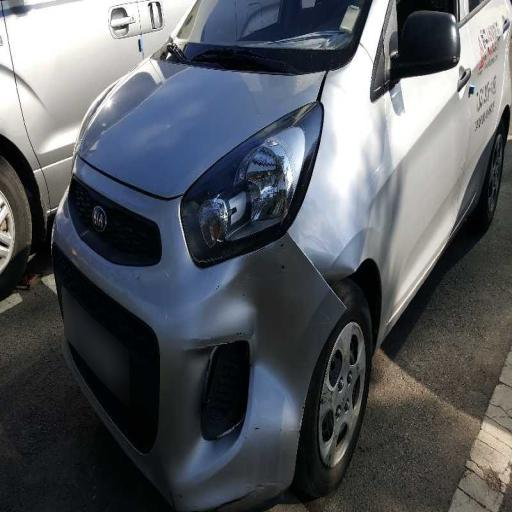broken: (224, 185, 412, 383)
dent: (140, 272, 288, 418)
